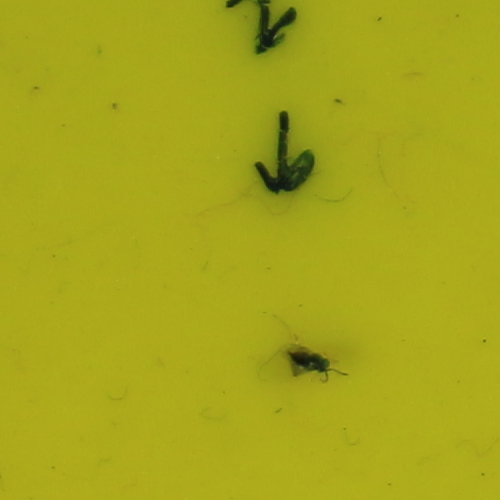wasp: (287, 346, 333, 371)
